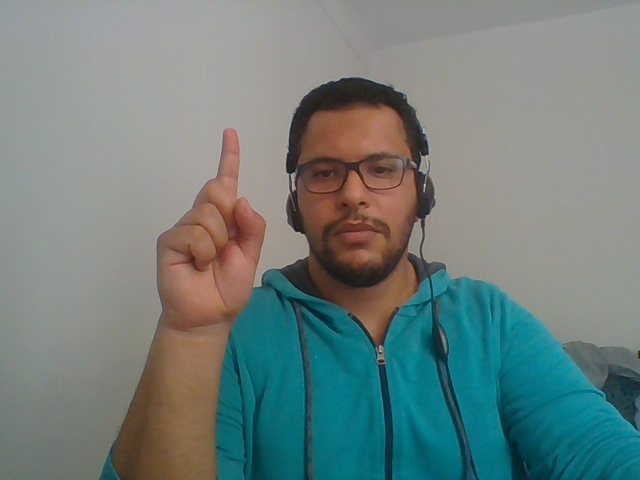handup: (127, 119, 280, 451)
